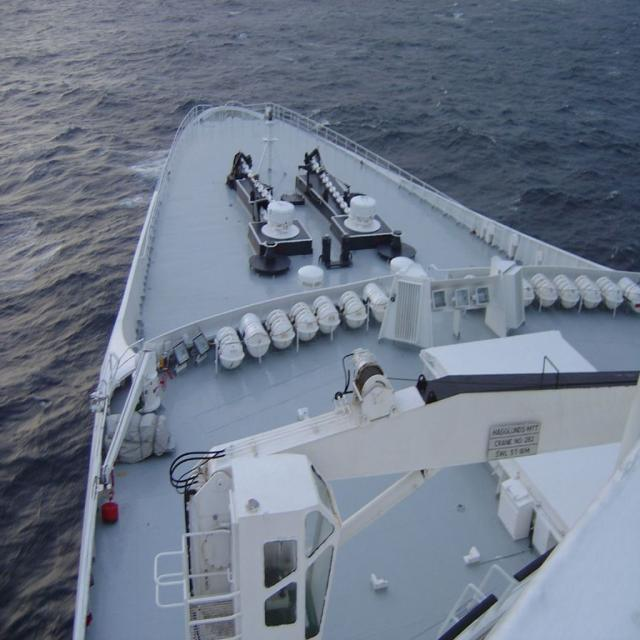Boat: (77, 100, 640, 638)
